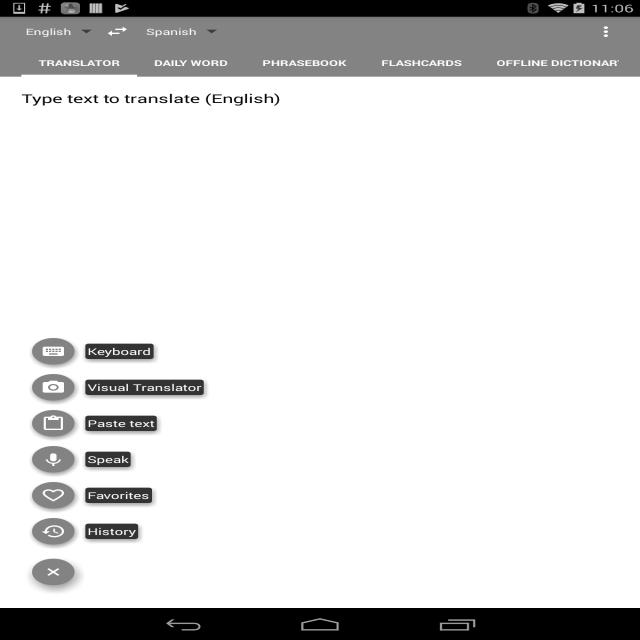EditText: (21, 90, 604, 176)
ImageButton: (21, 549, 86, 595), (27, 370, 80, 406), (27, 406, 80, 442), (27, 442, 80, 478), (27, 478, 80, 514), (27, 514, 80, 550), (27, 334, 80, 369), (105, 23, 130, 40)
ImageView: (35, 561, 72, 583)
Spinner: (138, 16, 222, 46), (17, 16, 97, 46)
TextView: (21, 189, 619, 210), (21, 213, 619, 224), (479, 46, 640, 76), (245, 46, 364, 76), (21, 46, 137, 76), (364, 46, 479, 76), (137, 46, 245, 76), (80, 375, 209, 400), (80, 411, 162, 436), (138, 16, 205, 46), (80, 339, 159, 364), (80, 483, 157, 508), (17, 16, 80, 46), (80, 519, 143, 544), (580, 16, 632, 46), (80, 447, 136, 472)
